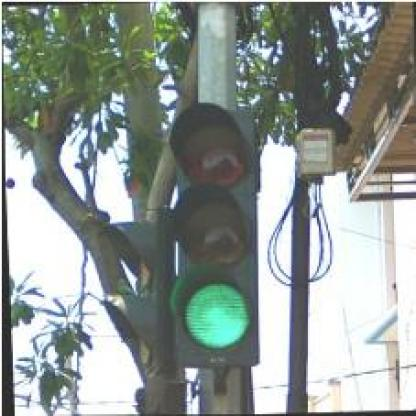green: (158, 105, 263, 368)
